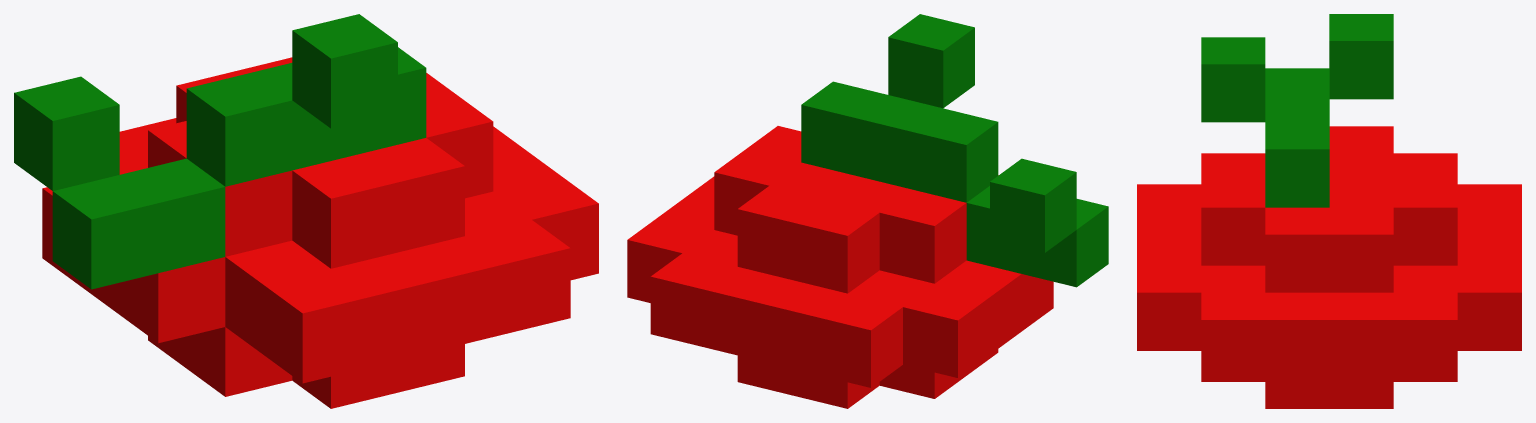
File: plant_tomato_f6.vox.obj
3 views of the same model, side by side, from view 1: azimuth 30°, elevation 25°; view 2: azimuth 150°, elevation 25°; view 3: azimuth 270°, elevation 25° (orthographic). The views are drawn at different scales.
Size of the model in its own units: 0.7 by 0.5 by 0.6.
1 material, 1 textured.
